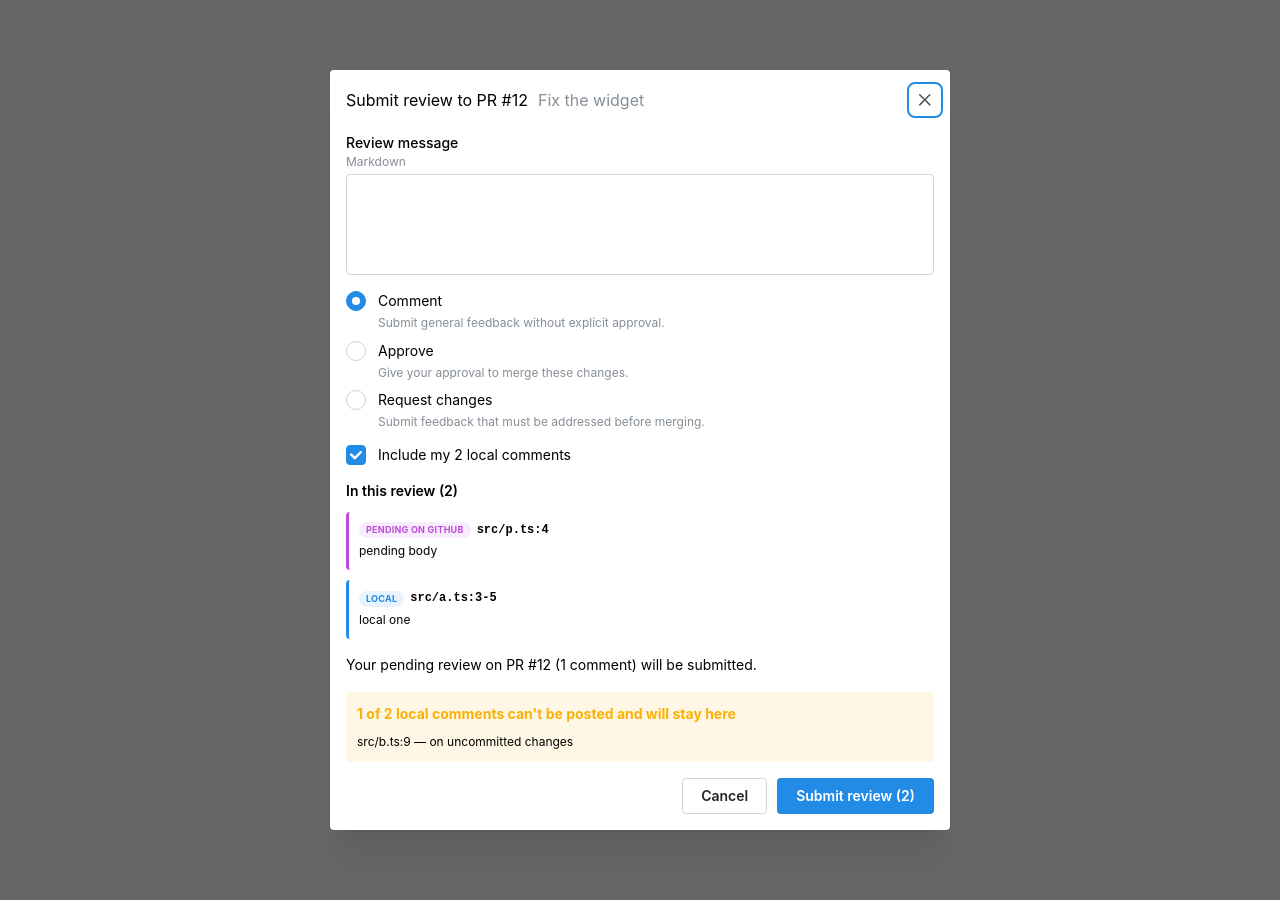
Test: SubmitReviewModal › a 200 that carries an error is still a submitted review: toasts, closes, and warns
The width and height of the screenshot is (1280, 900).
Expected: the text "In this review (2)" is shown, [346,482,458,499]
Step 1. Click the button "Submit review (2)" → (856, 796), box [777,778,934,814]
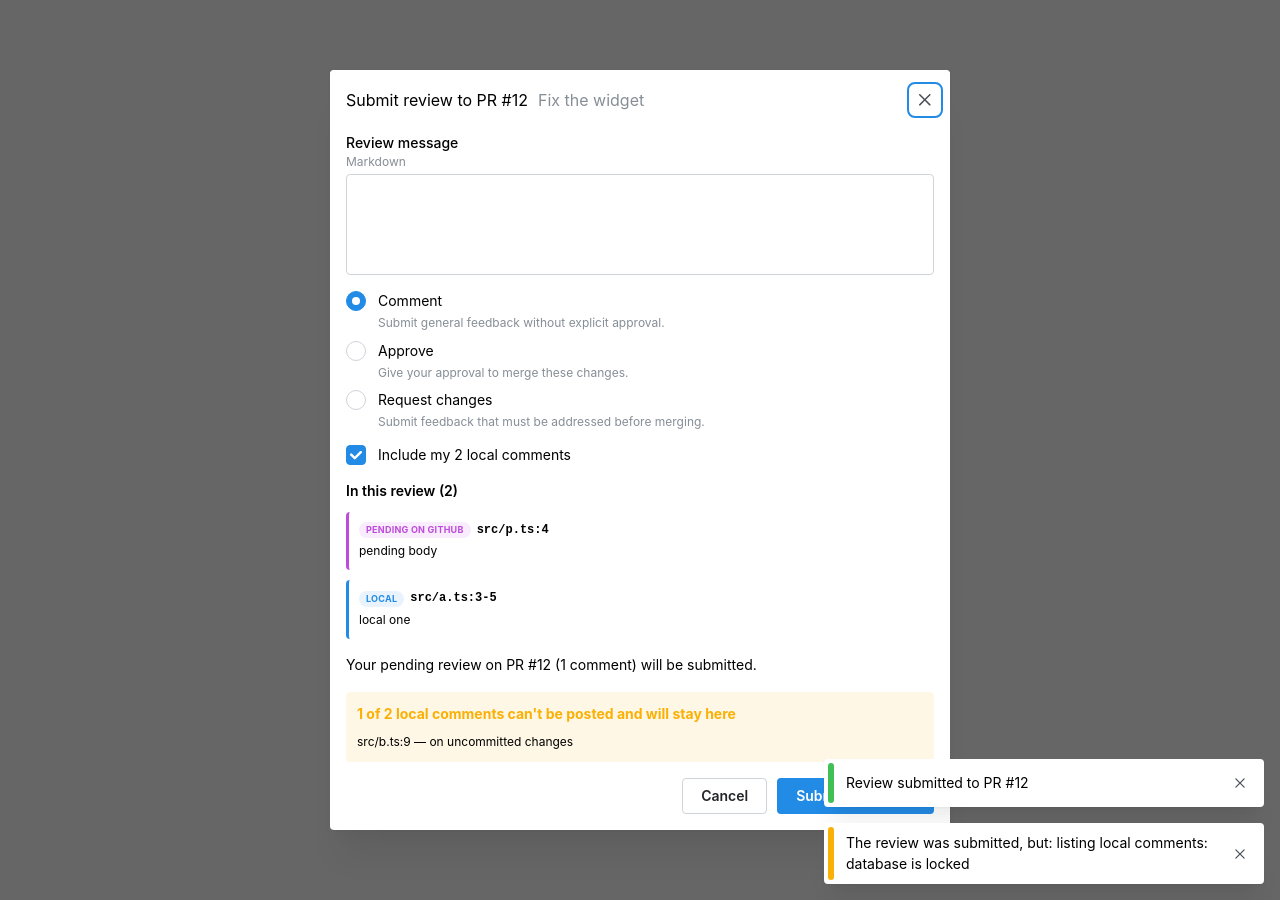
Result: the text "Review submitted to PR #12" is shown at [846,774,1029,791]
Result: the text "listing local comments: database is locked" is shown at [846,834,1208,872]
